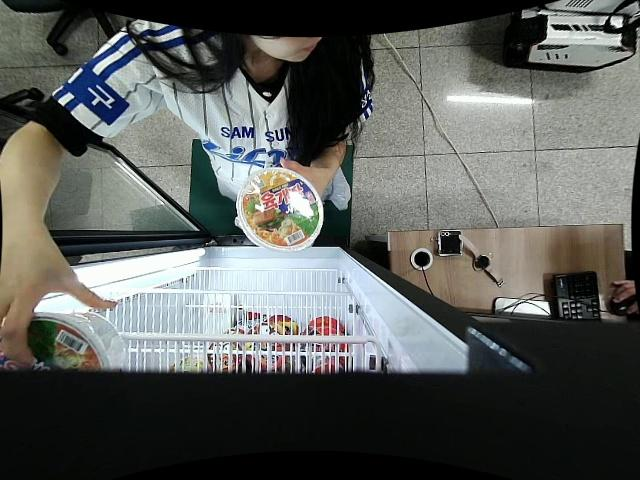00_hand: (0, 223, 119, 367), (274, 154, 334, 205)
09_yukGaeJang: (237, 166, 325, 253), (3, 310, 113, 373)
